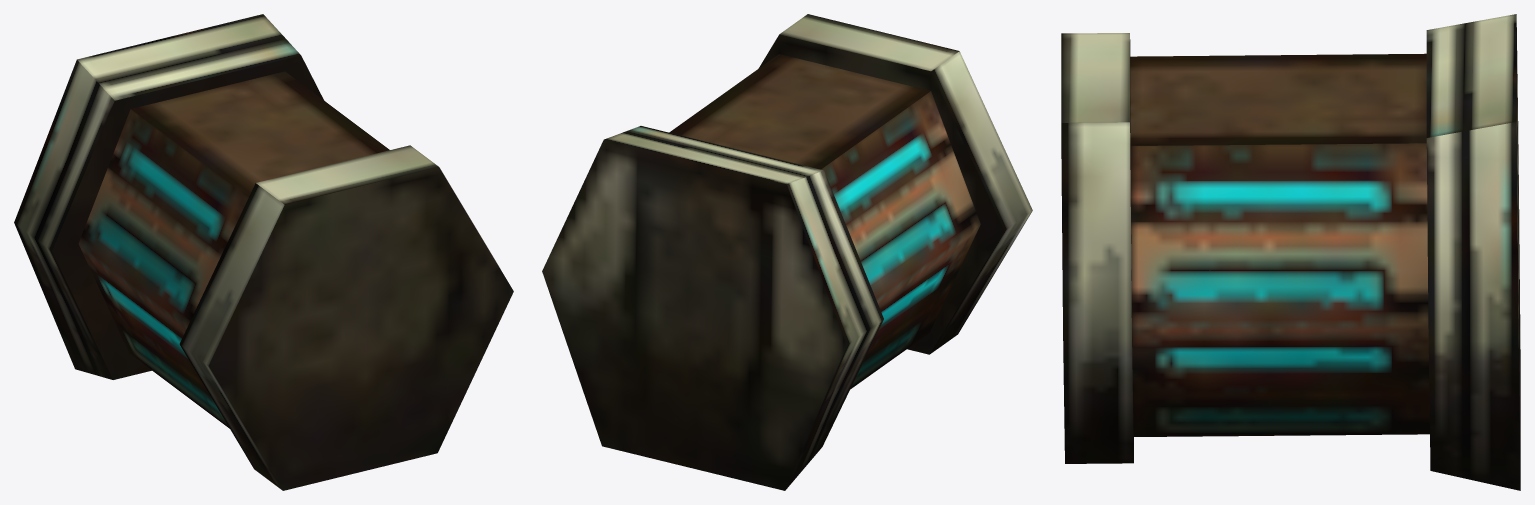
The model's file is gun14_reload.obj.
3 renders of one model, left to right at view 1: azimuth 30°, elevation 25°; view 2: azimuth 150°, elevation 25°; view 3: azimuth 270°, elevation 25°, orthographic. The views are drawn at different scales.
Parts seen in each view (by area): view 1: gun14_reload; view 2: gun14_reload; view 3: gun14_reload.
Boxes of the visible parts, box(x1,y1,x2,y2) form: gun14_reload: box(14, 14, 513, 490); gun14_reload: box(542, 14, 1032, 490); gun14_reload: box(1061, 14, 1520, 490).
Bounding box in the file's own units: 0.3317 × 0.3176 × 0.3585.
Materials: 1 (1 with a texture image).
